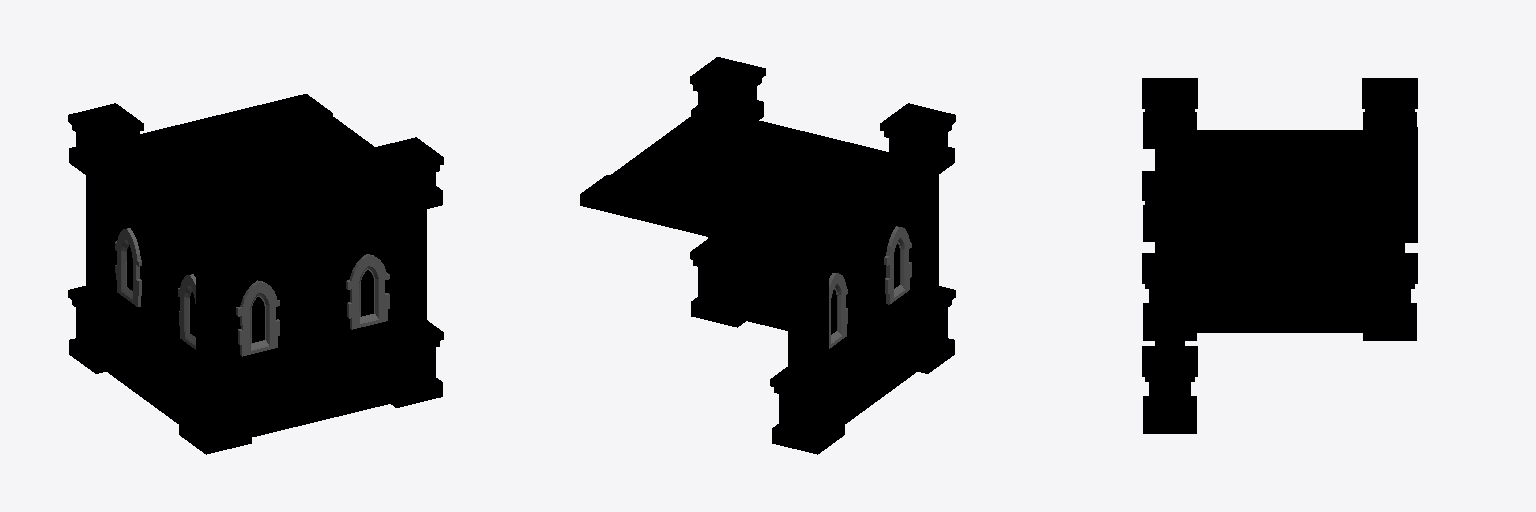
The picture shows the model from 3 angles: view 1: azimuth 30°, elevation 25°; view 2: azimuth 150°, elevation 25°; view 3: azimuth 270°, elevation 25°; orthographic projection.
Visible parts, largest first — view 1: object_33, object_2, object_3, Plane.007, object_1, object_4, object_30, object_21, object_34, object_35, object_6, object_9 (+18 smaller); view 2: object_2, object_3, object_1, object_21, object_33, object_4, Plane.007, object_19, object_16, object_9, object_25, object_32 (+15 smaller); view 3: object_2, object_3, object_1, object_30, object_9, object_16, object_25, object_19, object_28, object_27, object_29, object_20 (+10 smaller).
Boxes of the visible parts, x1=… form: object_33: x1=236, y1=196, x2=392, y2=423; object_2: x1=119, y1=117, x2=382, y2=238; object_3: x1=113, y1=169, x2=195, y2=408; Plane.007: x1=115, y1=228, x2=389, y2=356; object_1: x1=135, y1=94, x2=332, y2=162; object_4: x1=196, y1=256, x2=235, y2=383; object_30: x1=393, y1=209, x2=426, y2=336; object_21: x1=86, y1=176, x2=112, y2=302; object_34: x1=236, y1=207, x2=400, y2=257; object_35: x1=247, y1=391, x2=389, y2=436; object_6: x1=186, y1=389, x2=244, y2=436; object_9: x1=178, y1=184, x2=253, y2=222; object_2: x1=580, y1=117, x2=904, y2=257; object_3: x1=829, y1=167, x2=910, y2=408; object_1: x1=580, y1=175, x2=794, y2=257; object_21: x1=788, y1=256, x2=828, y2=382; object_33: x1=736, y1=119, x2=885, y2=330; object_4: x1=911, y1=175, x2=938, y2=302; Plane.007: x1=829, y1=226, x2=911, y2=348; object_19: x1=779, y1=389, x2=837, y2=436; object_16: x1=770, y1=184, x2=845, y2=222; object_9: x1=880, y1=103, x2=955, y2=141; object_25: x1=690, y1=57, x2=765, y2=95; object_32: x1=838, y1=361, x2=917, y2=423; object_2: x1=1170, y1=130, x2=1417, y2=242; object_3: x1=1185, y1=130, x2=1374, y2=332; object_1: x1=1364, y1=127, x2=1417, y2=242; object_30: x1=1155, y1=242, x2=1184, y2=363; object_9: x1=1142, y1=78, x2=1197, y2=108; object_16: x1=1362, y1=78, x2=1417, y2=108; object_25: x1=1142, y1=171, x2=1197, y2=200; object_19: x1=1369, y1=289, x2=1410, y2=323; object_28: x1=1149, y1=382, x2=1190, y2=416; object_27: x1=1142, y1=346, x2=1197, y2=376; object_29: x1=1143, y1=396, x2=1196, y2=433; object_20: x1=1363, y1=303, x2=1416, y2=340.
Size of the model in its own units: 12.53 by 12.01 by 12.53.